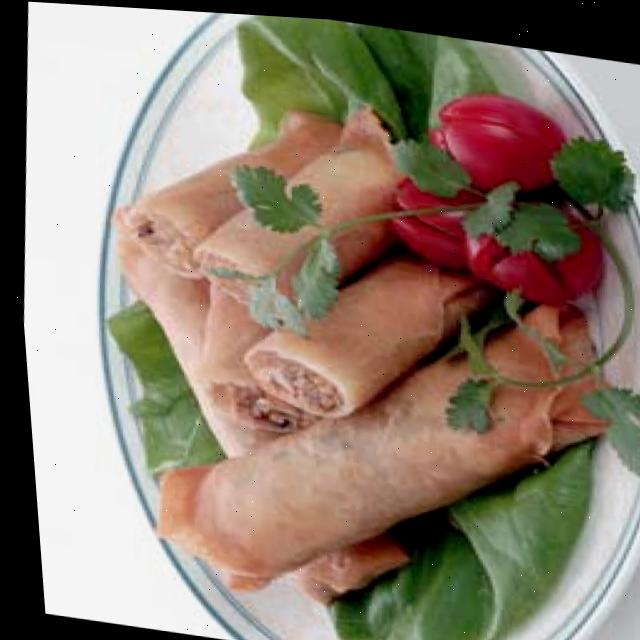鸡蛋料理: (70, 59, 640, 640)
